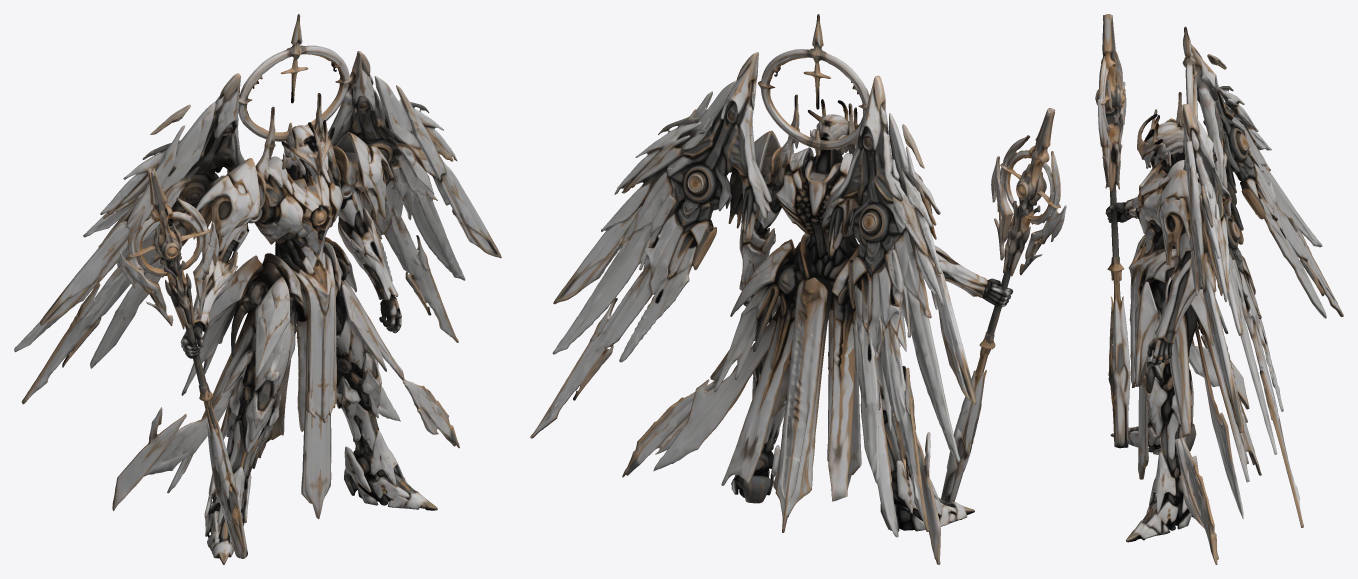
File: aureole-detail.glb
The picture shows the model from 3 angles, left to right: view 1: azimuth 30°, elevation 25°; view 2: azimuth 150°, elevation 25°; view 3: azimuth 270°, elevation 25°; orthographic projection. The views are drawn at different scales.
Parts seen in each view (by area): view 1: world; view 2: world; view 3: world.
Part boxes in pixels (x1,y1,x2,y2): world: (14, 14, 501, 564); world: (530, 14, 1066, 564); world: (1095, 14, 1343, 564).
Bounding box in the file's own units: 0.9297 × 1 × 0.4817.
1 material, 1 textured.
